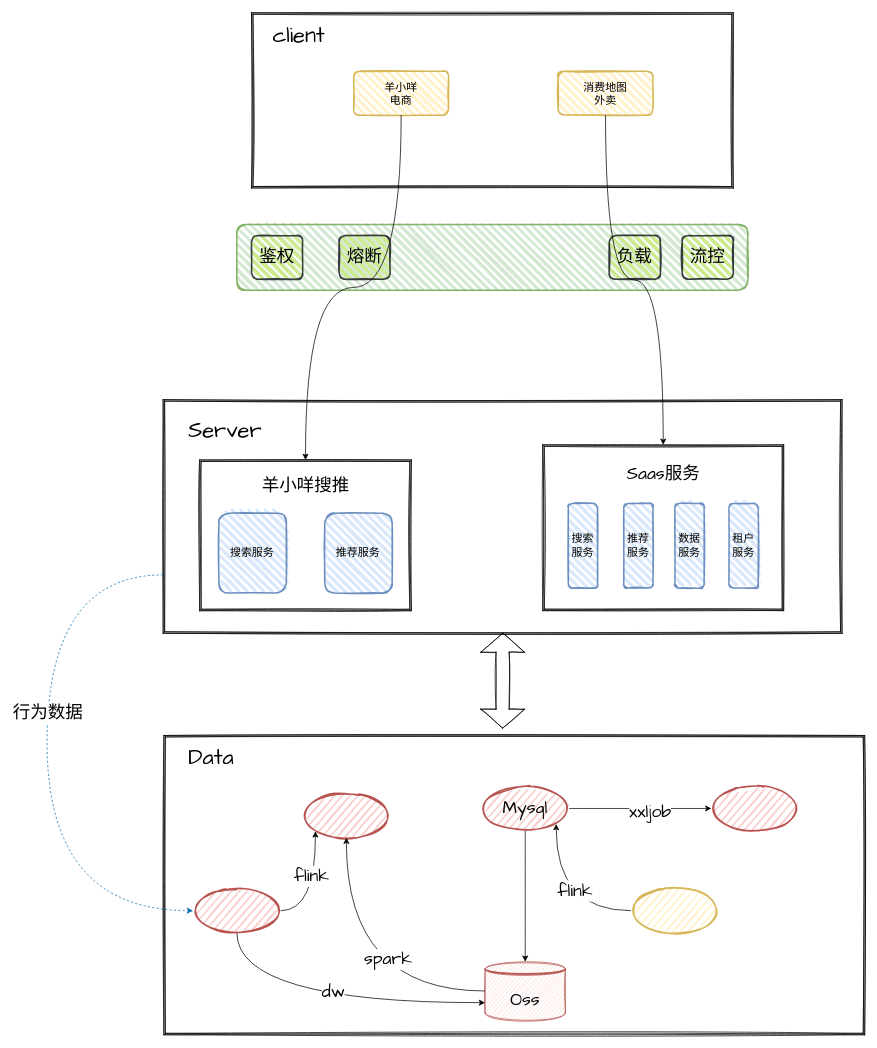
Image size: 877x1048. Some labels were removed from this diagram. Each missing label, with the box of its shape:
Es: (710, 785, 799, 831)
Gatwway: (236, 223, 748, 291)
Kafka: (192, 888, 281, 933)
Redis: (301, 793, 391, 838)
外部Mysql: (630, 888, 719, 933)
